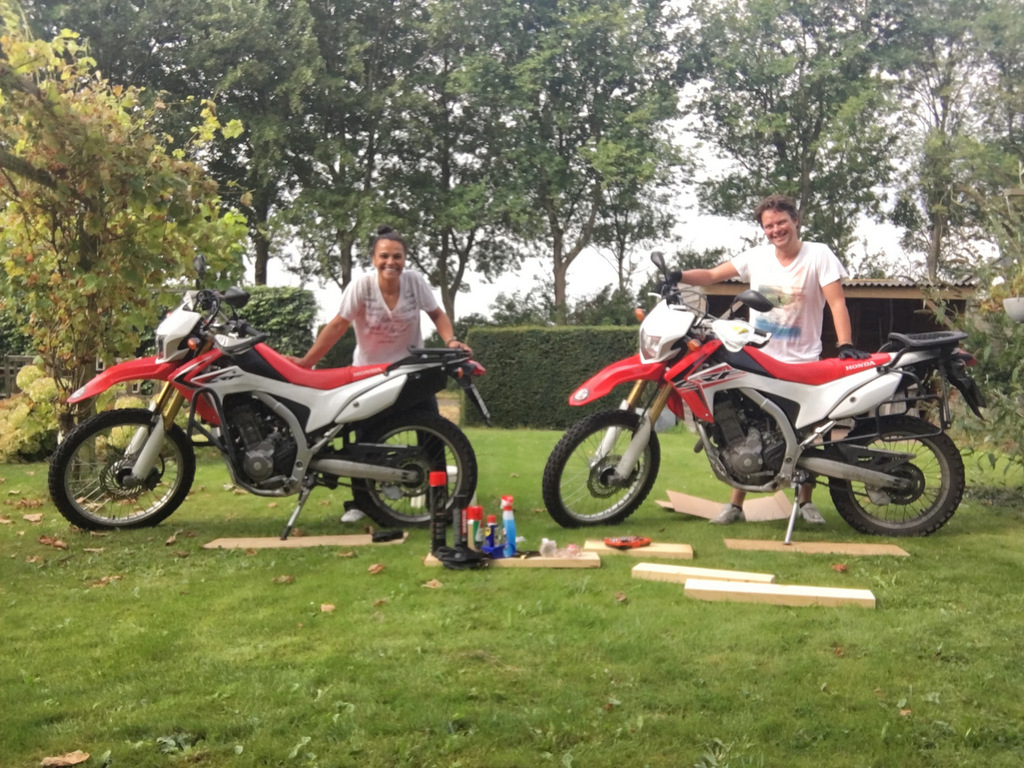motorbike: (532, 286, 996, 559), (42, 284, 489, 546)
